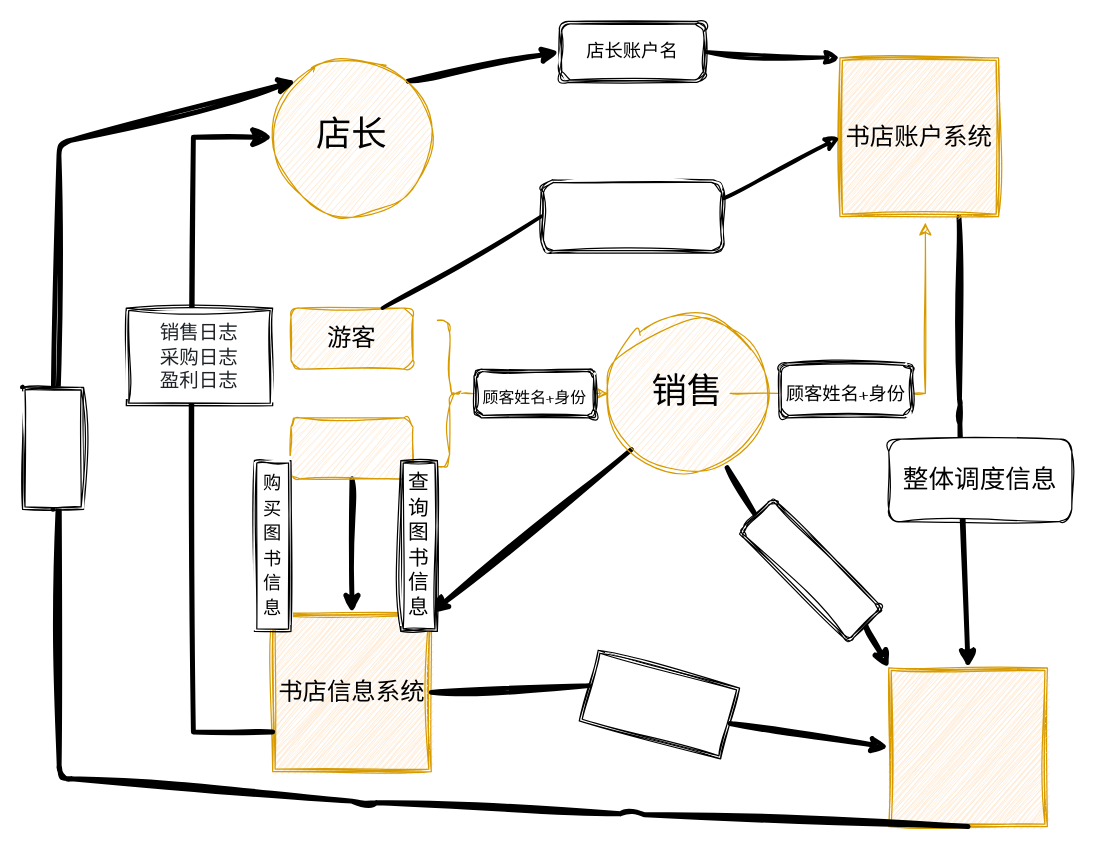
Image size: 1094x852. Some labels were removed from this diagram. The centre of each missing label's shape, as x and y in pixels:
"员工输入的指令" goes at point (810, 569).
"图书调度信息" goes at point (659, 704).
"工作日志系统" goes at point (967, 747).
"系统 工作日志" goes at point (52, 447).
"顾客" goes at point (351, 448).
"（登录）游客账号" goes at point (632, 216).
